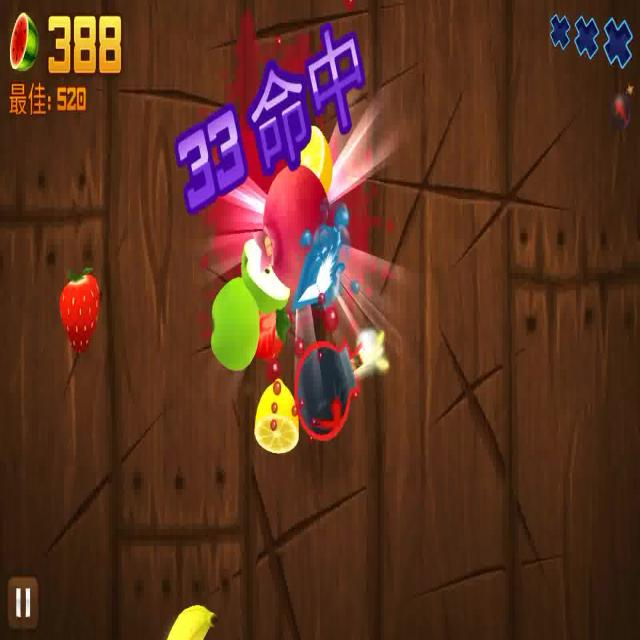bomb: (298, 334, 367, 448)
fruit: (254, 167, 338, 288), (210, 282, 256, 370), (56, 270, 100, 356), (238, 244, 290, 312), (256, 380, 299, 454), (296, 120, 336, 197), (162, 595, 215, 640)
